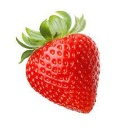strawberry: (16, 9, 101, 114)
